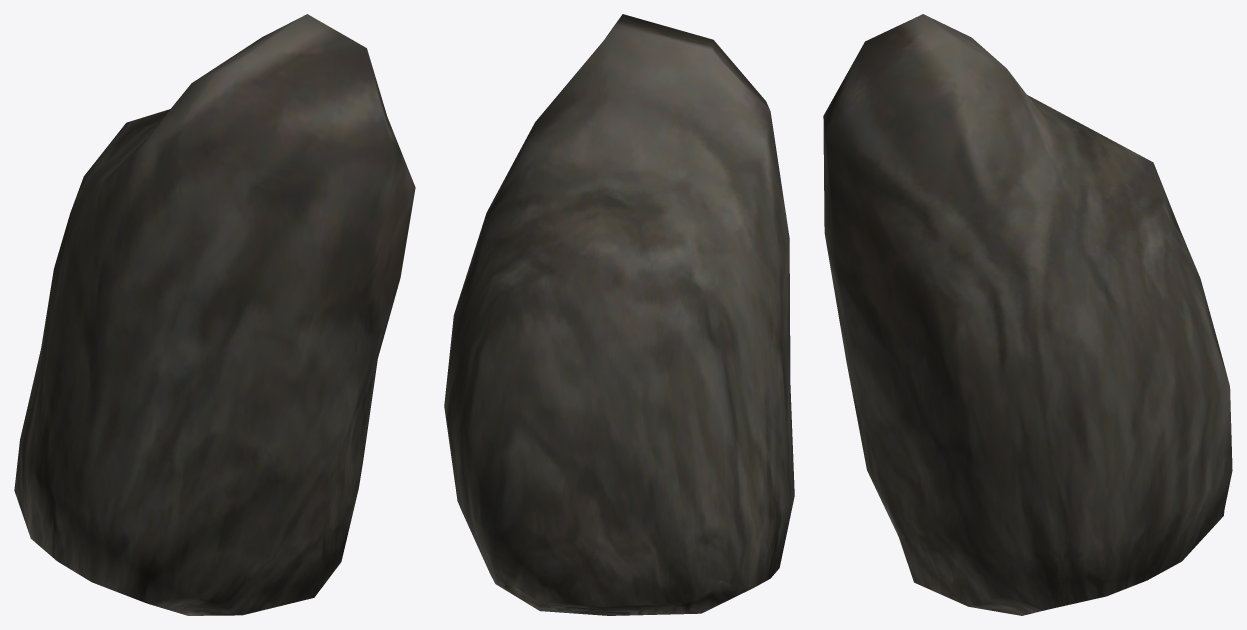
Rendered from Stone44Shape.dae.
3 views of the same model, side by side, from view 1: azimuth 30°, elevation 25°; view 2: azimuth 150°, elevation 25°; view 3: azimuth 270°, elevation 25° (orthographic). The views are drawn at different scales.
Visible parts, largest first — view 1: Stone44; view 2: Stone44; view 3: Stone44.
Boxes of the visible parts, x1=… form: Stone44: x1=14, y1=14, x2=415, y2=615; Stone44: x1=444, y1=14, x2=794, y2=615; Stone44: x1=823, y1=14, x2=1232, y2=615.
Size of the model in its own units: 6.79 by 11.26 by 7.43.
